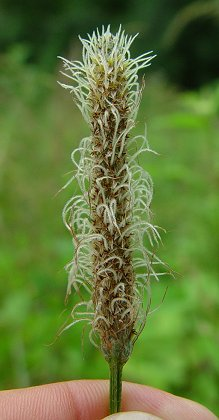buckhorn plantain: (31, 19, 207, 412)
